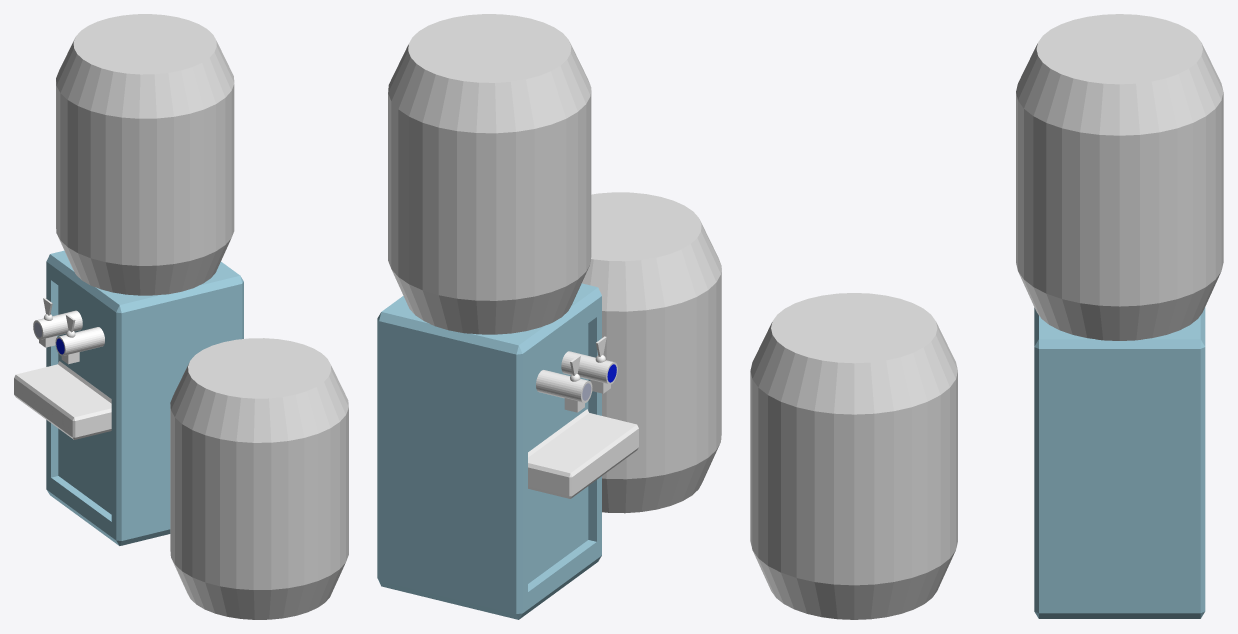
The model's file is watercooler.fbx.
3 views of the same model, side by side, from view 1: azimuth 30°, elevation 25°; view 2: azimuth 150°, elevation 25°; view 3: azimuth 270°, elevation 25° (orthographic). The views are drawn at different scales.
Visible parts, largest first — view 1: Cylinder.004, Cylinder, Cube, Cylinder.001, Cylinder.002; view 2: Cube, Cylinder, Cylinder.004, Cylinder.002, Cylinder.001; view 3: Cylinder.004, Cylinder, Cube.
Part boxes in pixels (x1,y1,x2,y2): Cylinder.004: (170, 338, 348, 619); Cylinder: (56, 14, 234, 295); Cube: (14, 250, 243, 545); Cylinder.001: (55, 327, 104, 356); Cylinder.002: (33, 310, 82, 339); Cube: (377, 283, 638, 619); Cylinder: (388, 14, 591, 334); Cylinder.004: (582, 192, 721, 513); Cylinder.002: (536, 370, 592, 403); Cylinder.001: (561, 351, 617, 384); Cylinder.004: (750, 293, 957, 619); Cylinder: (1016, 14, 1223, 340); Cube: (1034, 307, 1205, 618).
Size of the model in its own units: 362 by 890 by 713.
